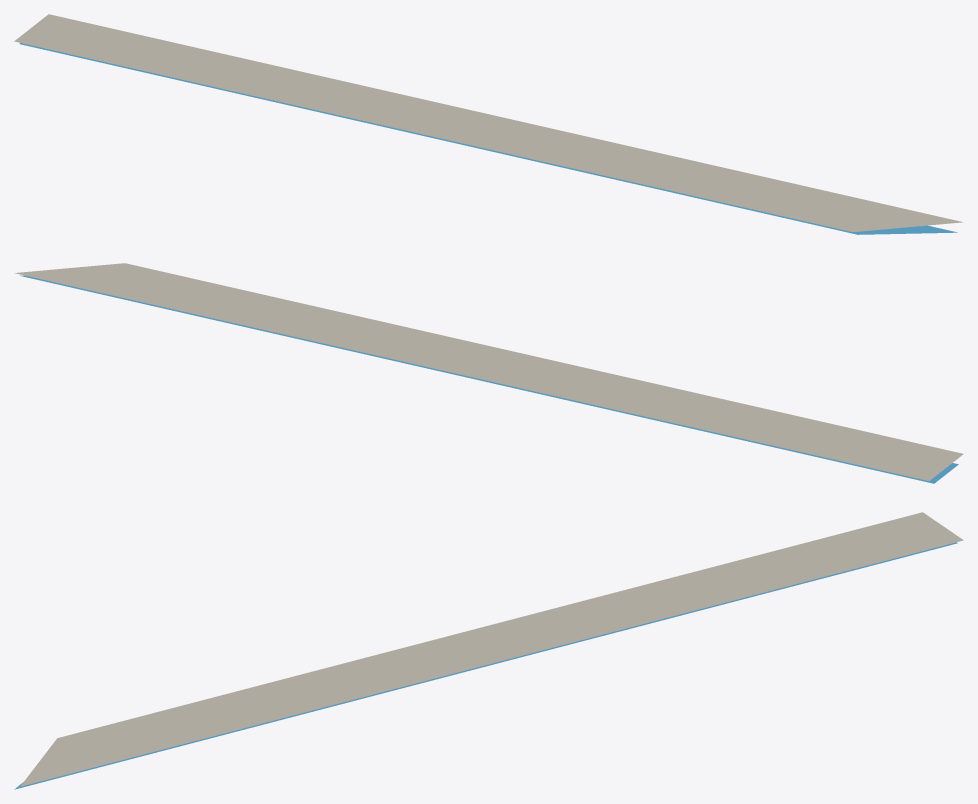
The picture shows the model from 3 angles, top to bottom: view 1: azimuth 30°, elevation 25°; view 2: azimuth 210°, elevation 25°; view 3: azimuth 270°, elevation 25°; orthographic projection. The views are drawn at different scales.
Parts seen in each view (by area): view 1: estructura_terreno, estructura_agua; view 2: estructura_terreno, estructura_agua; view 3: estructura_terreno, estructura_agua.
Part boxes in pixels (x1,y1,x2,y2): estructura_terreno: (14,14,962,232); estructura_agua: (19,43,957,234); estructura_terreno: (14,263,963,480); estructura_agua: (20,275,958,483); estructura_terreno: (20,512,963,786); estructura_agua: (14,542,957,789).
Size of the model in its own units: 34.85 by 0.41 by 50.93.
